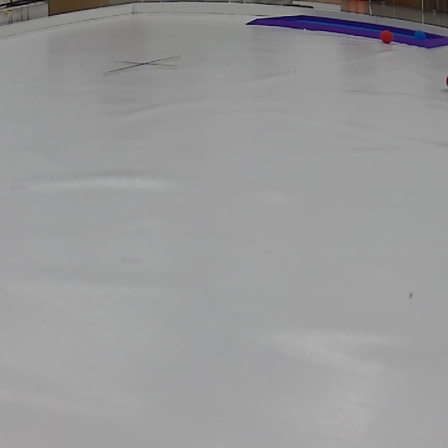blue: (413, 28, 429, 42)
blue_aim: (244, 12, 448, 51)
red: (374, 28, 395, 46)
